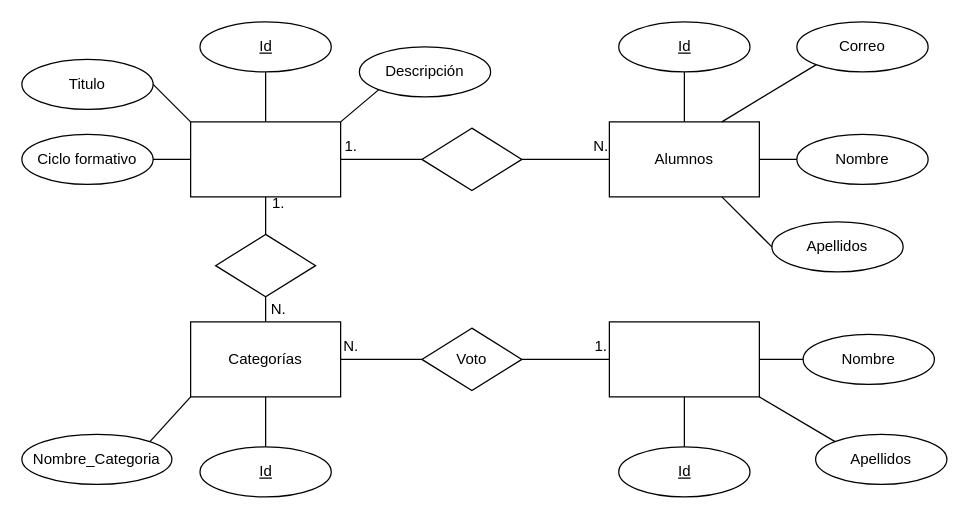
Image size: 969x519. Some labels were removed from this diagram. The shapes that lost their labels are listed below. From the top down, each one's centre as x and y in pixels, then its label:
(265,159): Proyectos
(471,159): Tienen
(265,265): tiene
(683,359): Asistentes
